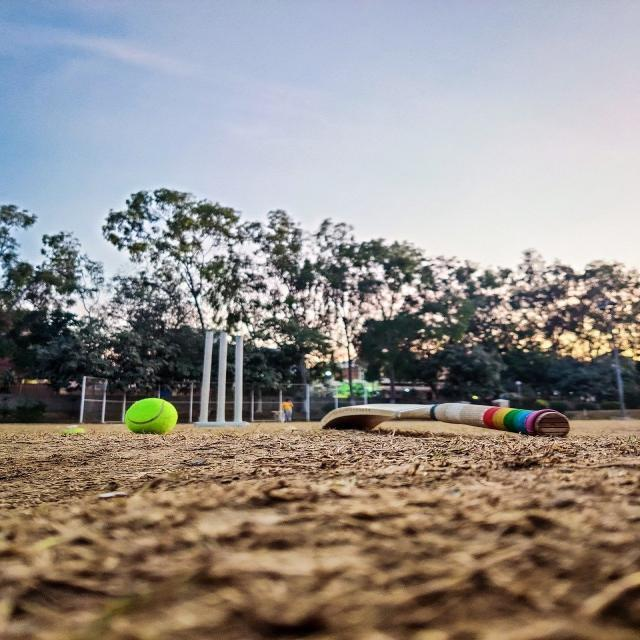stumps: (194, 318, 248, 429)
